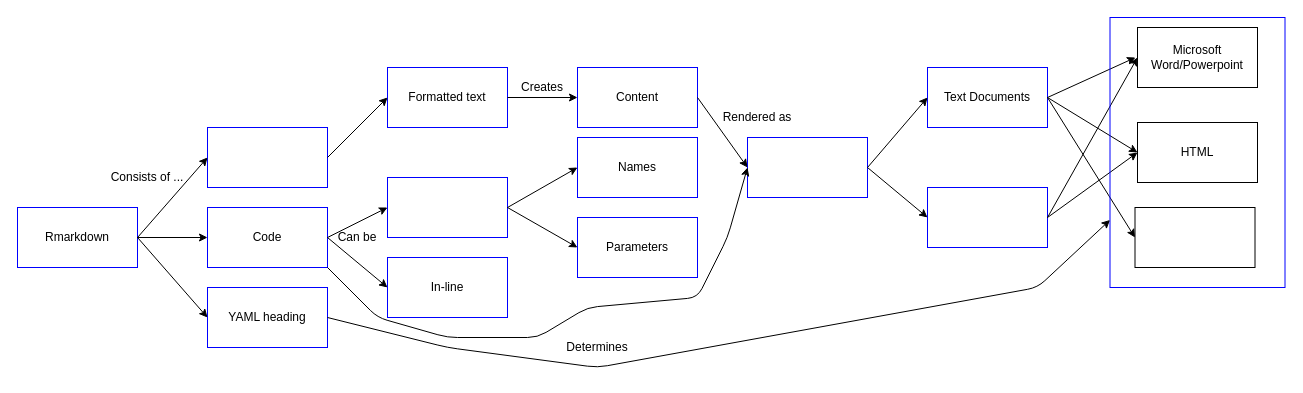
Image size: 1303x393. Some labels were removed from this diagram. The centre of each missing label's shape, as x and y in pixels:
Code chunks: pixel 447 207
Document: pixel 807 167
Markdown text: pixel 267 157
PDF: pixel 1194 237
Slides: pixel 987 217
